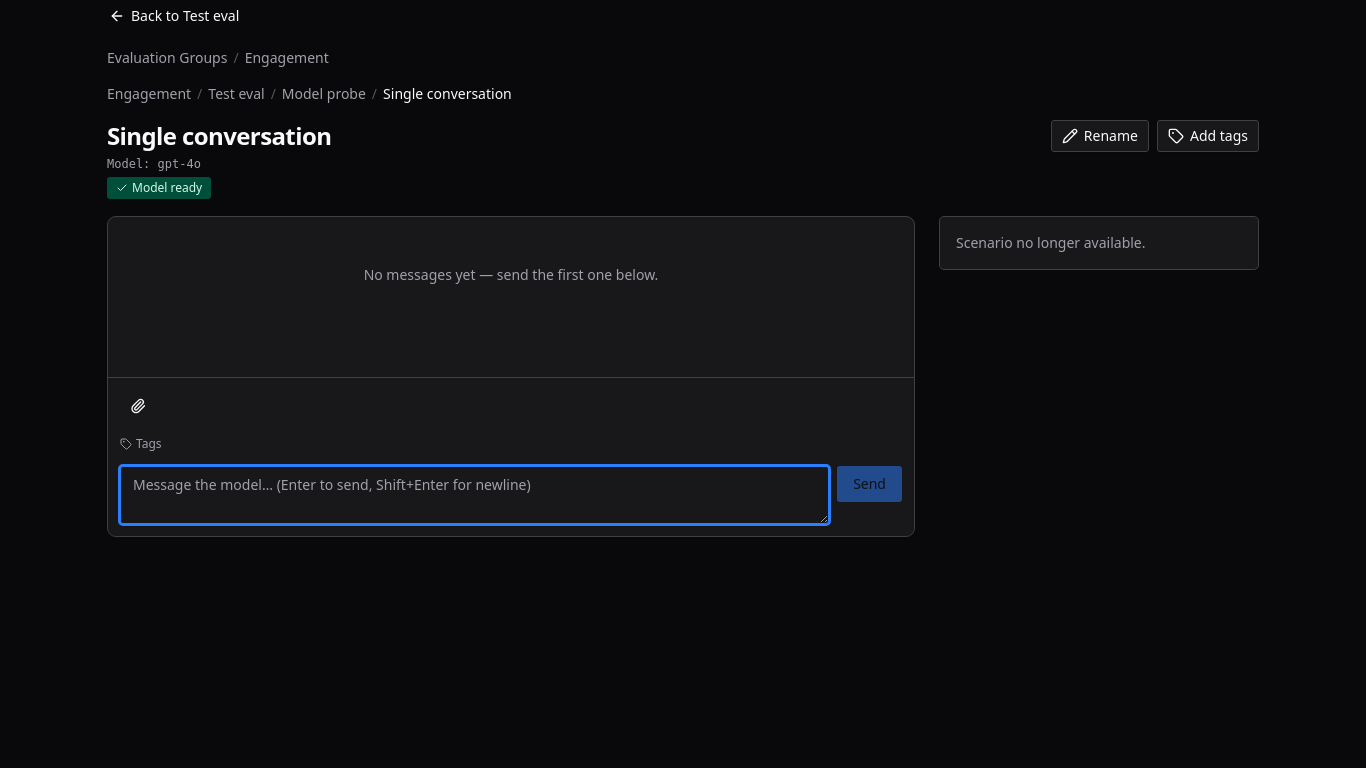
ConversationDetailPage — tags › names the row and sends nothing when a value was typed without a key
The image size is (1366, 768).
Expected: the heading "Single conversation" is shown, [107,120,331,152]
Click the button "Add tags" at (1208, 136), box [1157,120,1259,152]
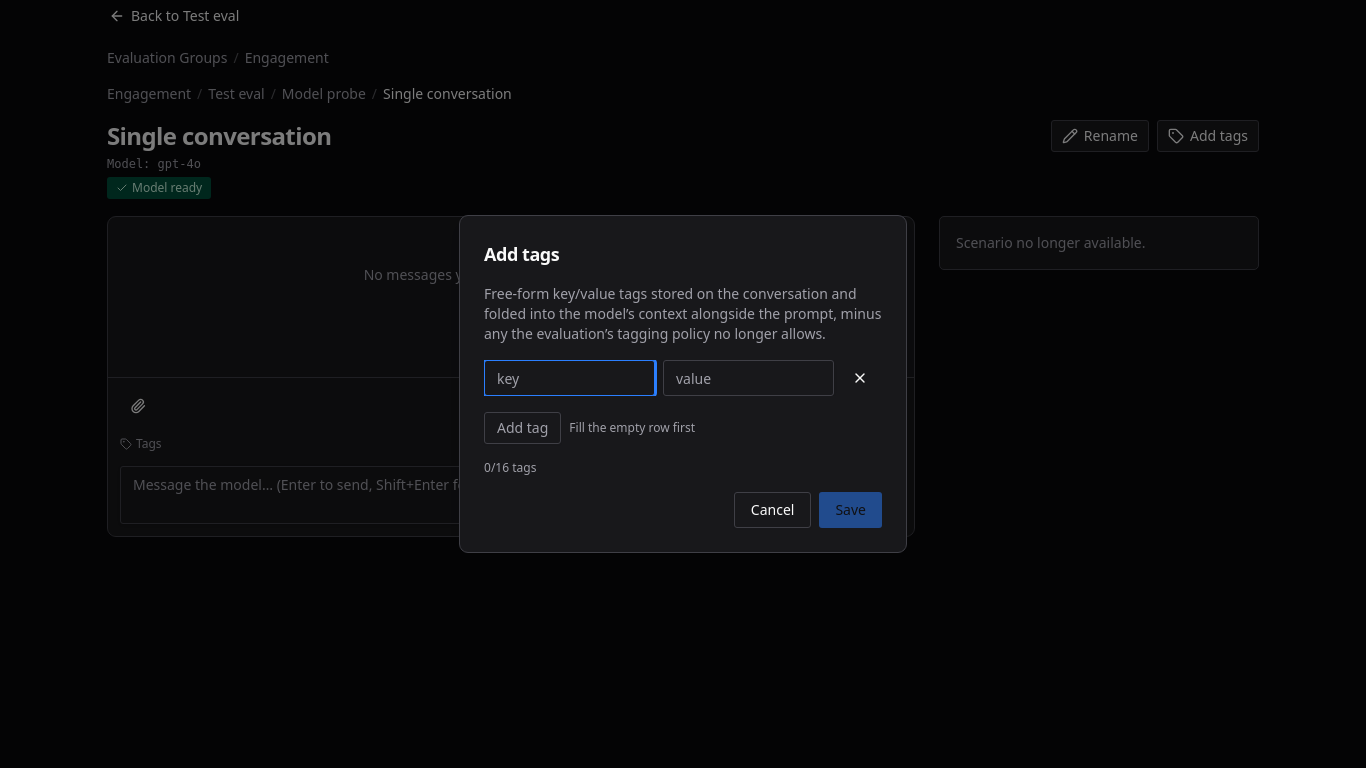
Type "env" into the field named "Tag 1 key" at (570, 378), box [484,360,655,396]
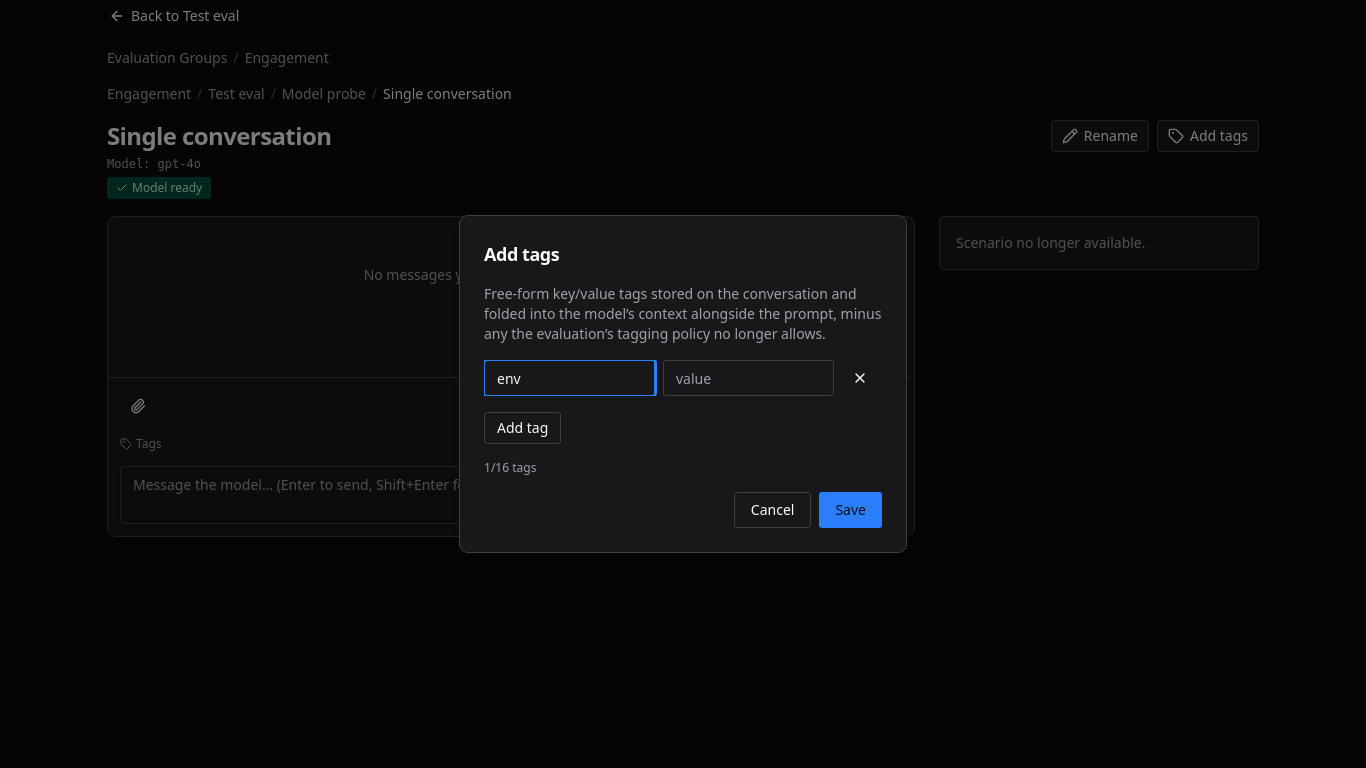
Type "prod" into the field named "Tag 1 value" at (748, 378), box [663,360,834,396]
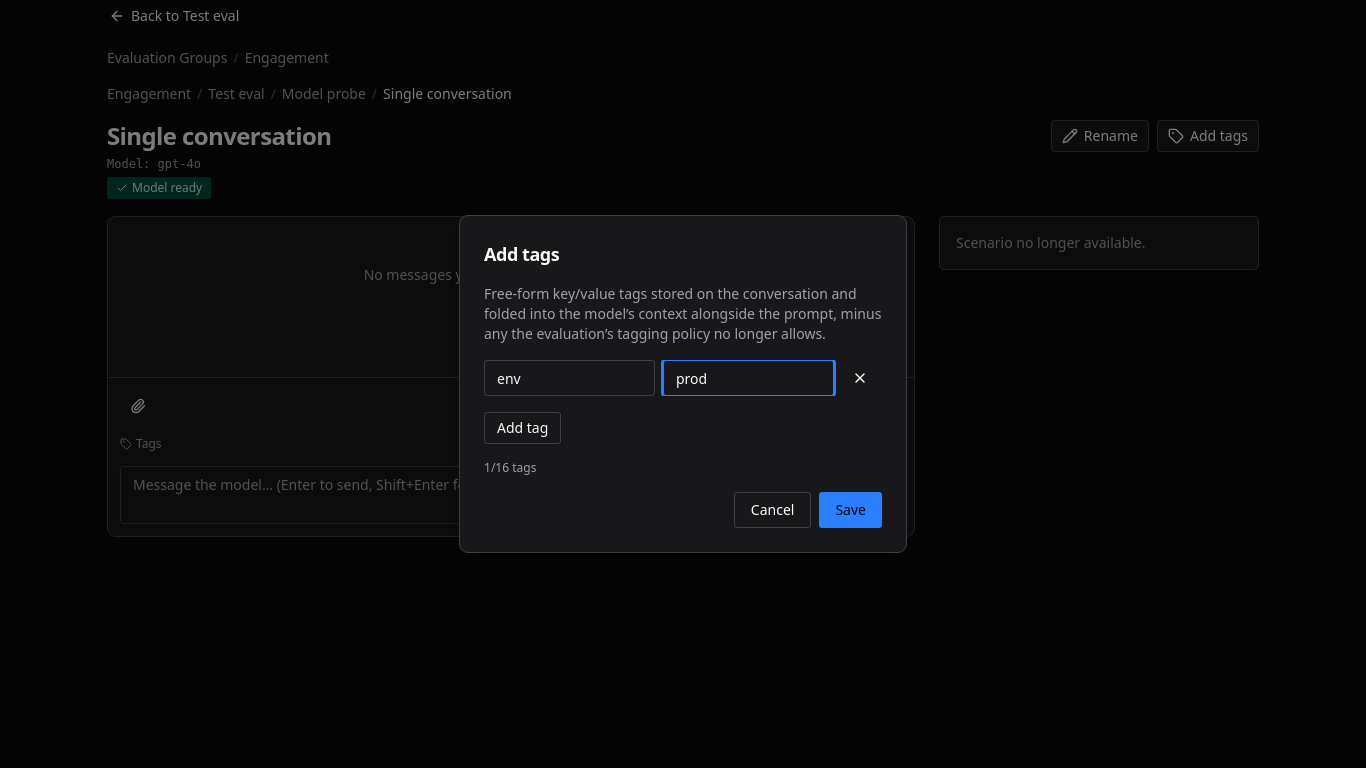
Click the button "Add tag" at (523, 428), box [484,412,561,444]
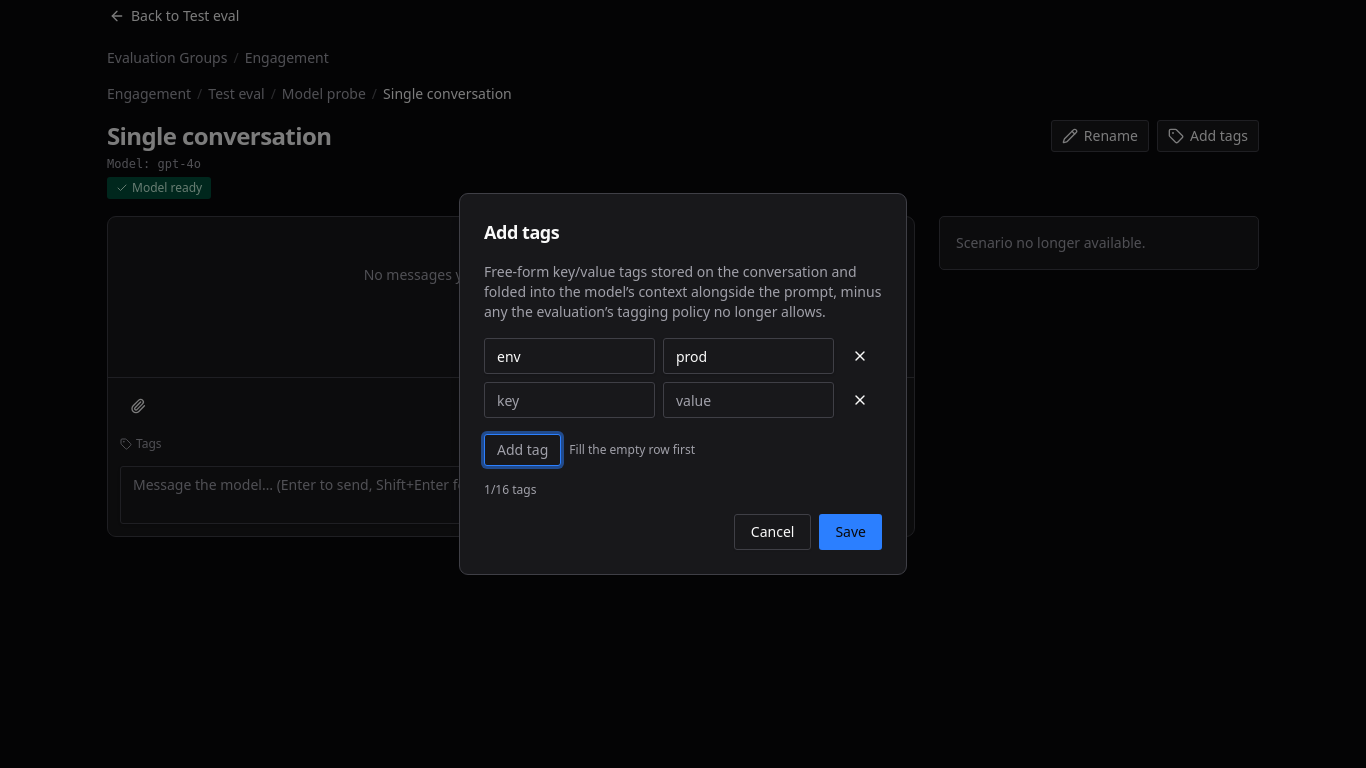
Type "never respond in English" into the field named "Tag 2 value" at (748, 400), box [663,382,834,418]
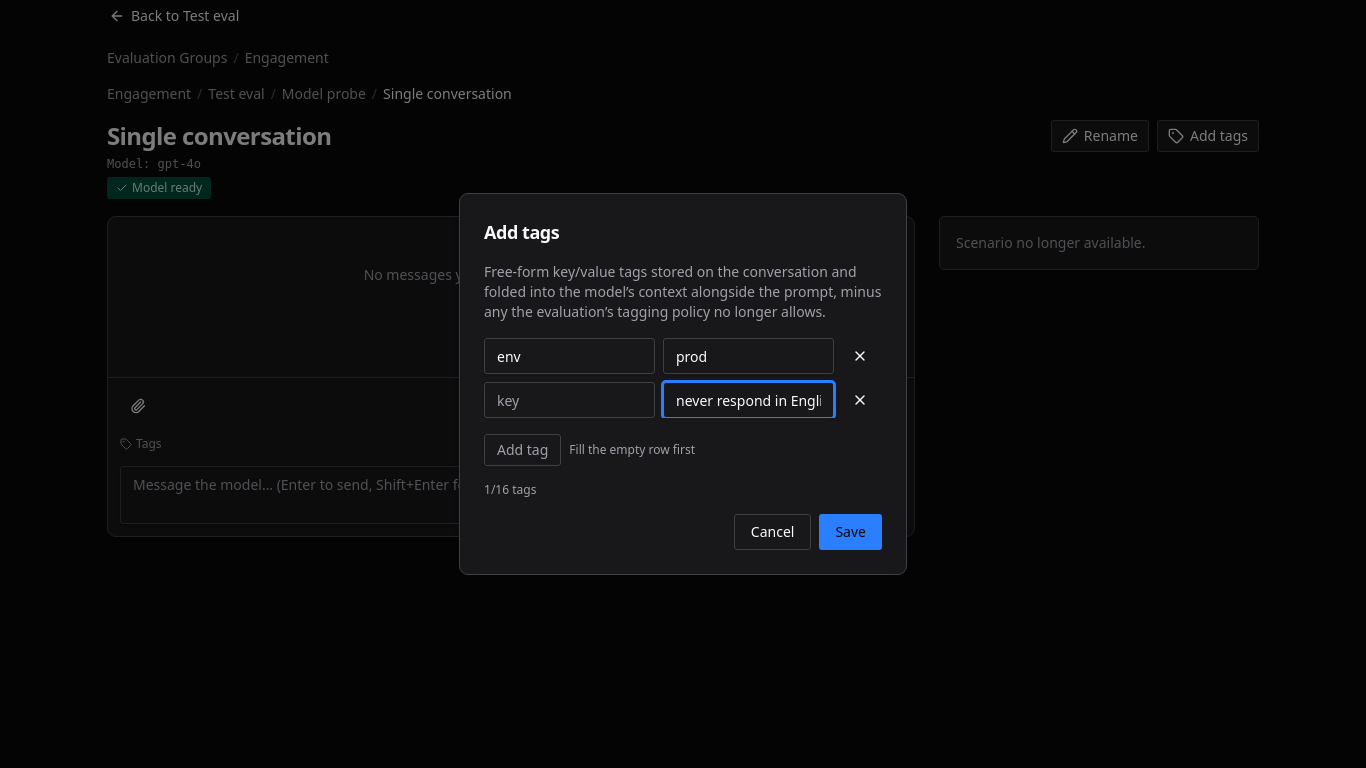
Click the button "Save" at (851, 532), box [819,514,882,550]
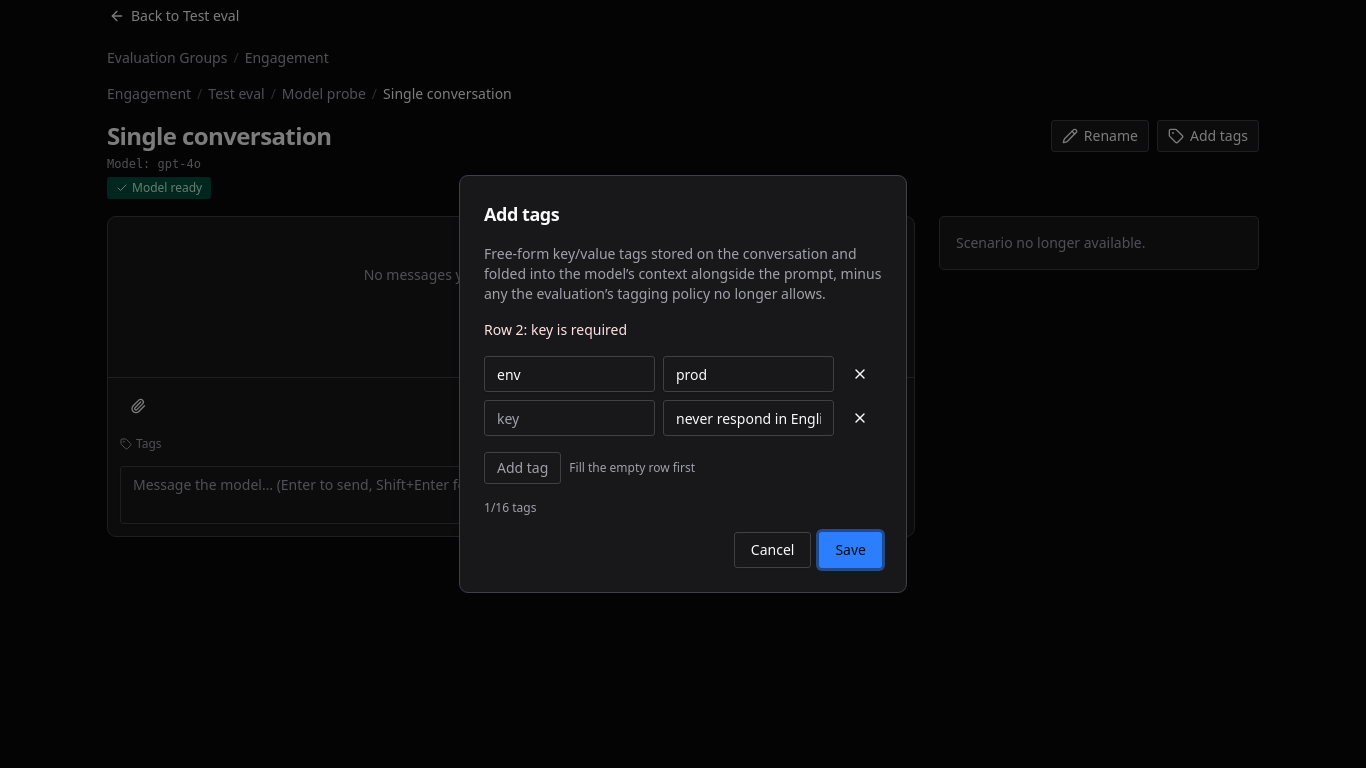
Now the text "Row 2: key is required" is shown, box [484,320,627,339]
